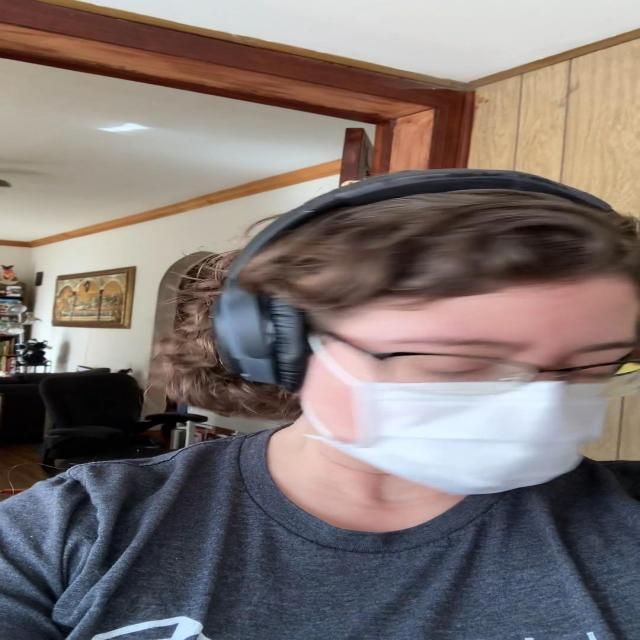no hat: (301, 273, 640, 496)
